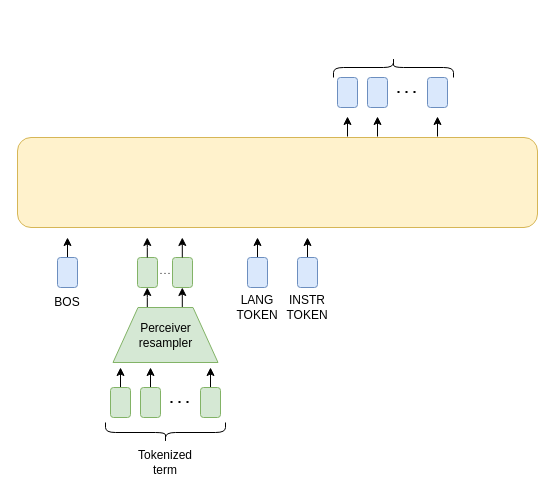
The diagram is 555 pixels wide and 494 high, and some of its shapes have lost their labels. The centre of each missing label's shape, as x and y in pixels:
AR Transformer: the point at 277,182
Sequence of tactics: the point at 393,67
